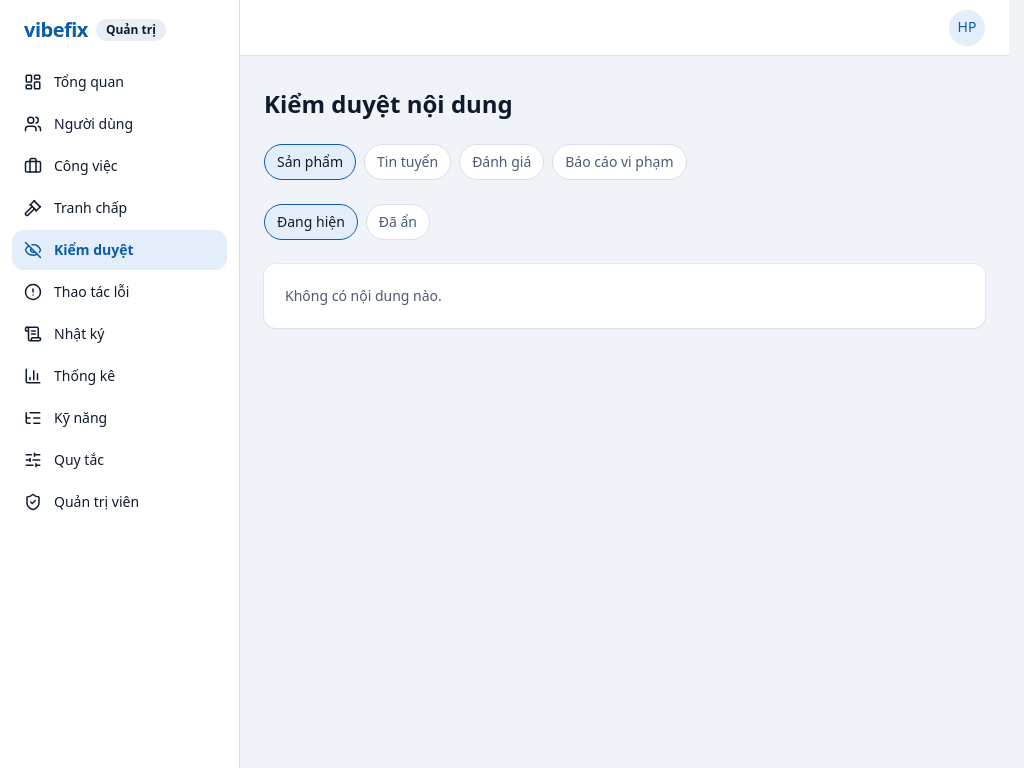
Test: ADM-6 moderation (FR-60) › works an Abuse Report on a Crew Chat message through its one-message grant
The width and height of the screenshot is (1024, 768).
Click the tab "Báo cáo vi phạm". click: [619, 162]
box: [552, 144, 687, 180]
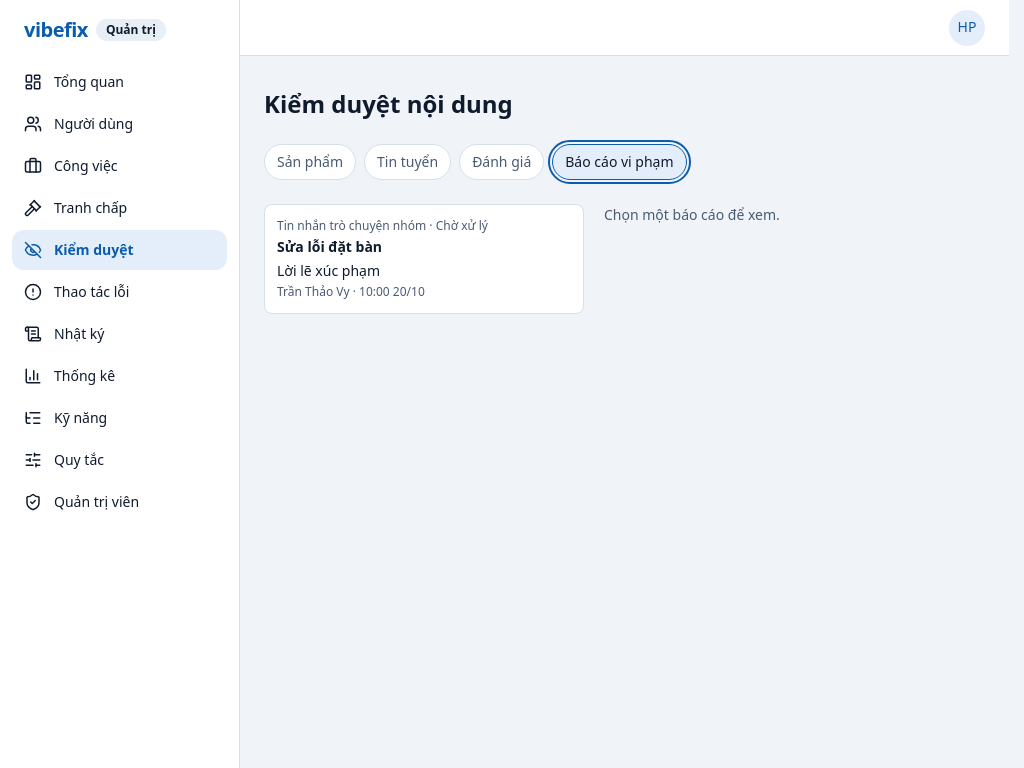
Click the button "Lời lẽ xúc phạm". click: [352, 226]
box: [264, 204, 584, 314]
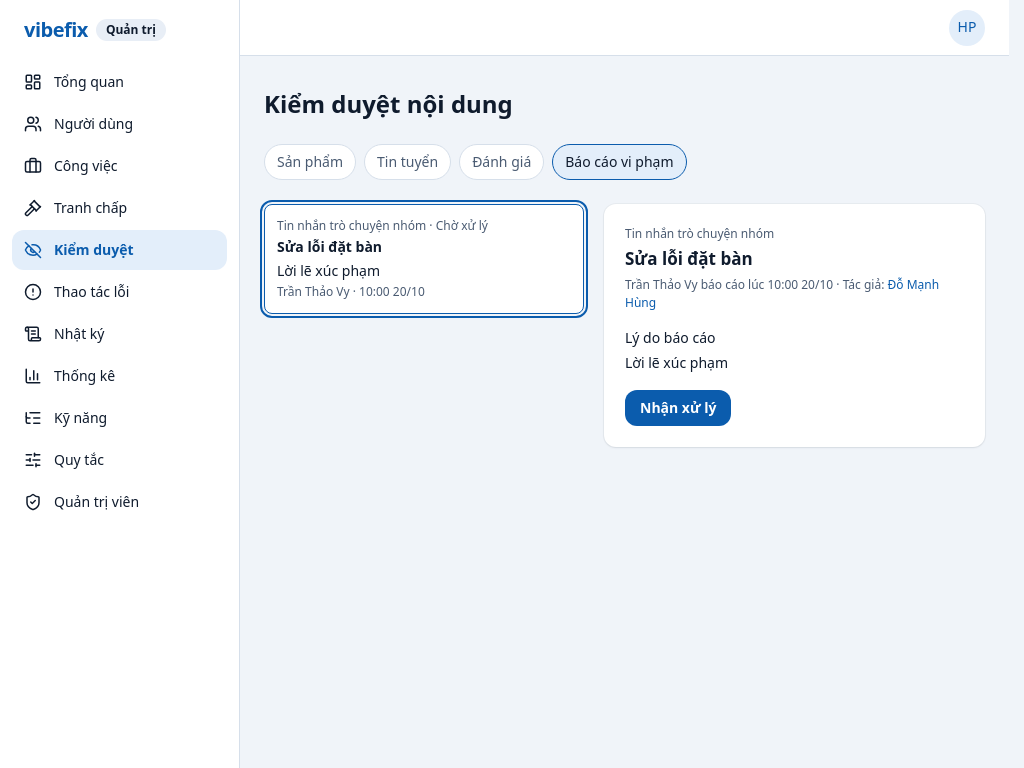
Expected: the text "Nội dung tin nhắn bị báo cáo" is not shown
Click the button "Nhận xử lý". click: [678, 408]
box: [625, 390, 732, 426]
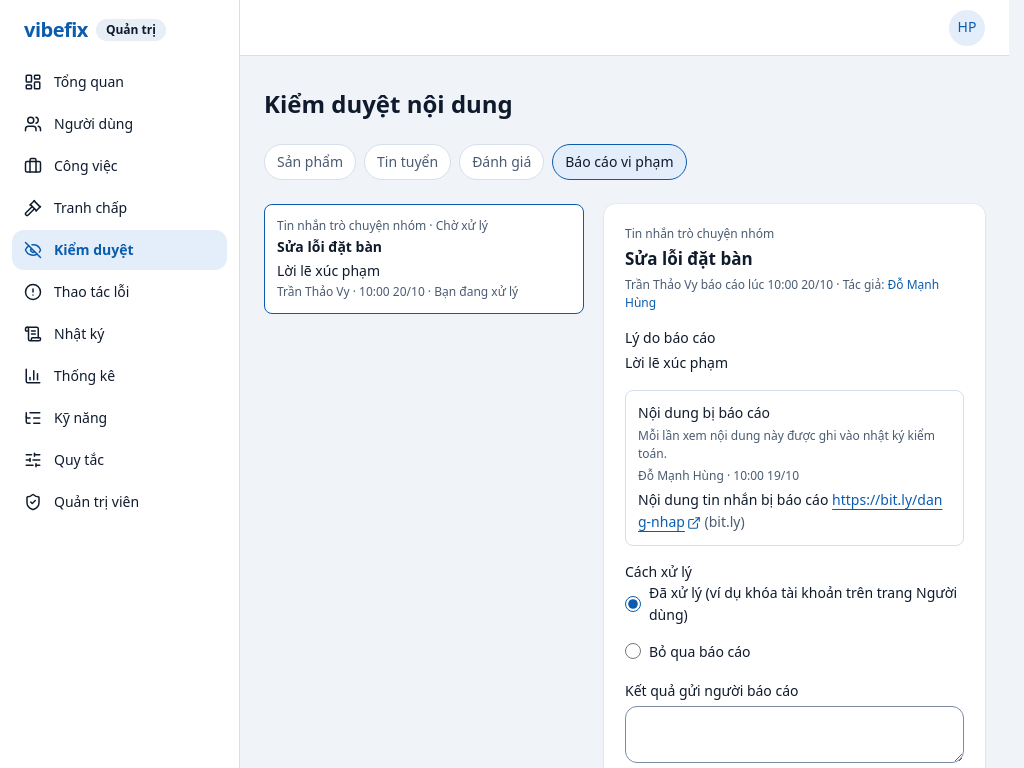
Expected: the text "Nội dung tin nhắn bị báo cáo" is shown, [638, 490, 832, 509]
Expected: the text "(bit.ly)" is shown, [704, 512, 745, 531]
Expected: the text "Mỗi lần xem nội dung này được ghi vào nhật ký kiểm toán." is shown, [638, 427, 951, 463]
Click the radio button labelled "Đã xử lý (ví dụ khóa tài khoản trên trang Người dùng)". click: [633, 604]
box: [625, 596, 641, 612]
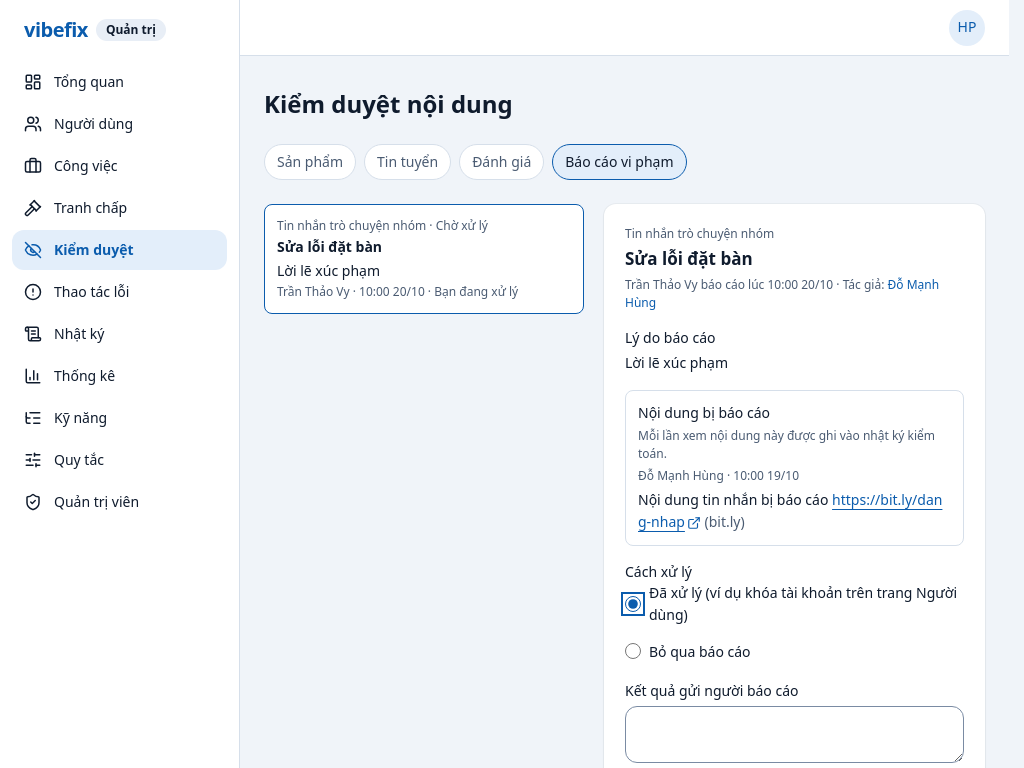
Type "Đã khóa tài khoản" into the text box labelled "Kết quả gửi người báo cáo". click: [794, 734]
box: [625, 706, 964, 763]
(page scrolled)
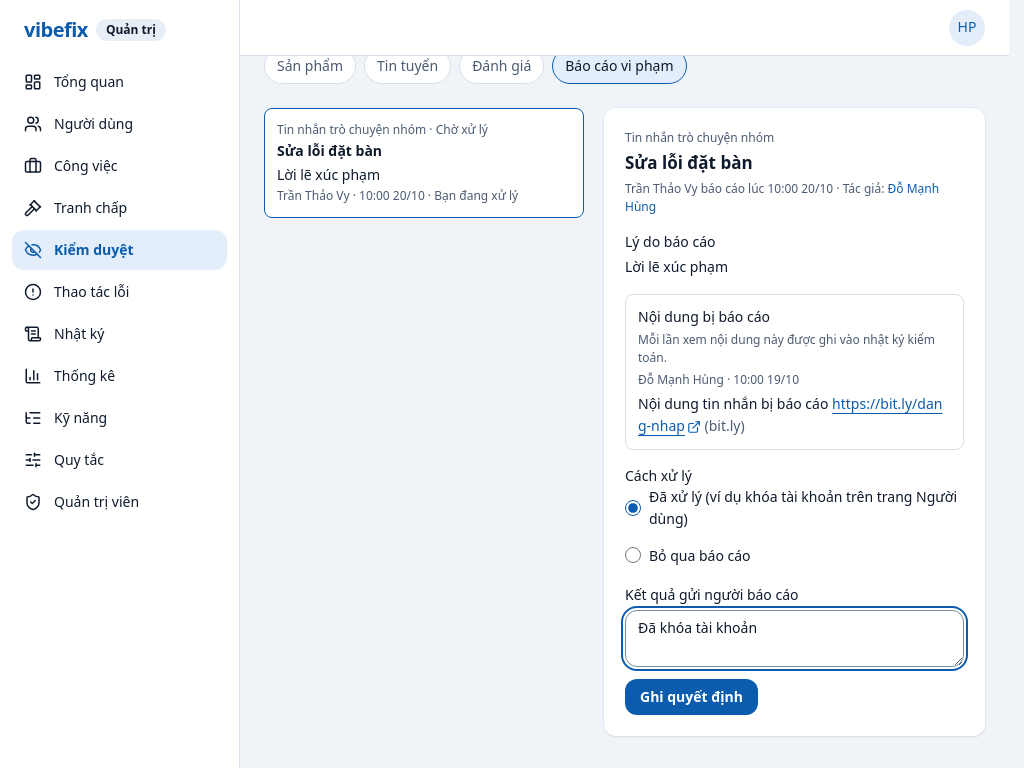
Click the button "Ghi quyết định". click: [692, 697]
box: [625, 679, 758, 715]
(page scrolled)
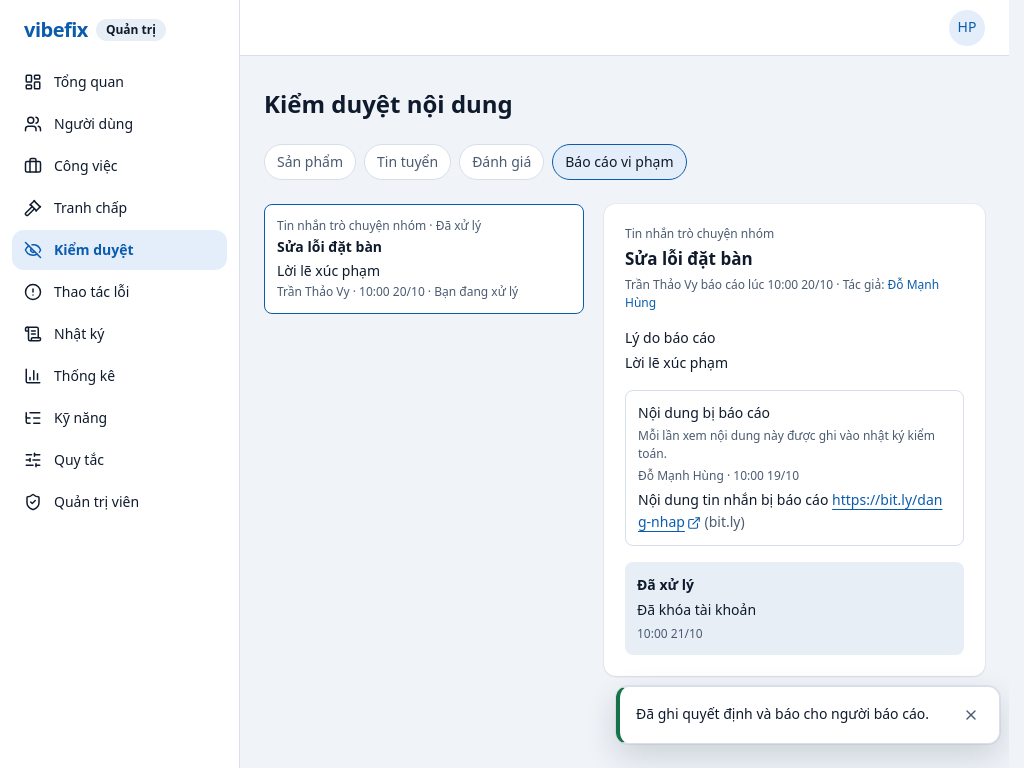
Expected: the text "Đã khóa tài khoản" is shown, [637, 600, 756, 619]
